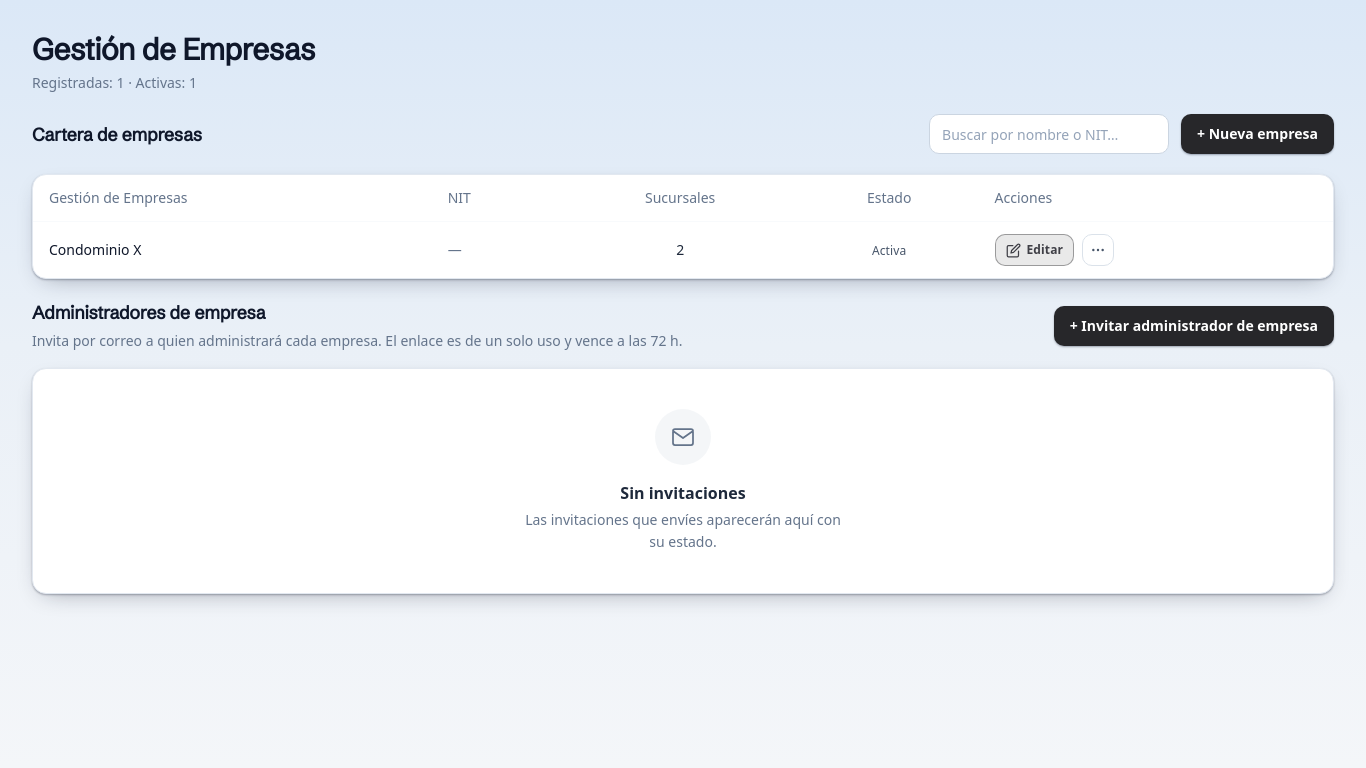
Test: OwnerEmpresas — eliminar definitivamente › contraseña incorrecta: muestra el error del servidor y no cierra el modal
Expected: the text "Condominio X" is shown, [49, 239, 141, 261]
Click the button named "Acciones: Condominio X": {"x": 1098, "y": 250} [1082, 234, 1114, 266]
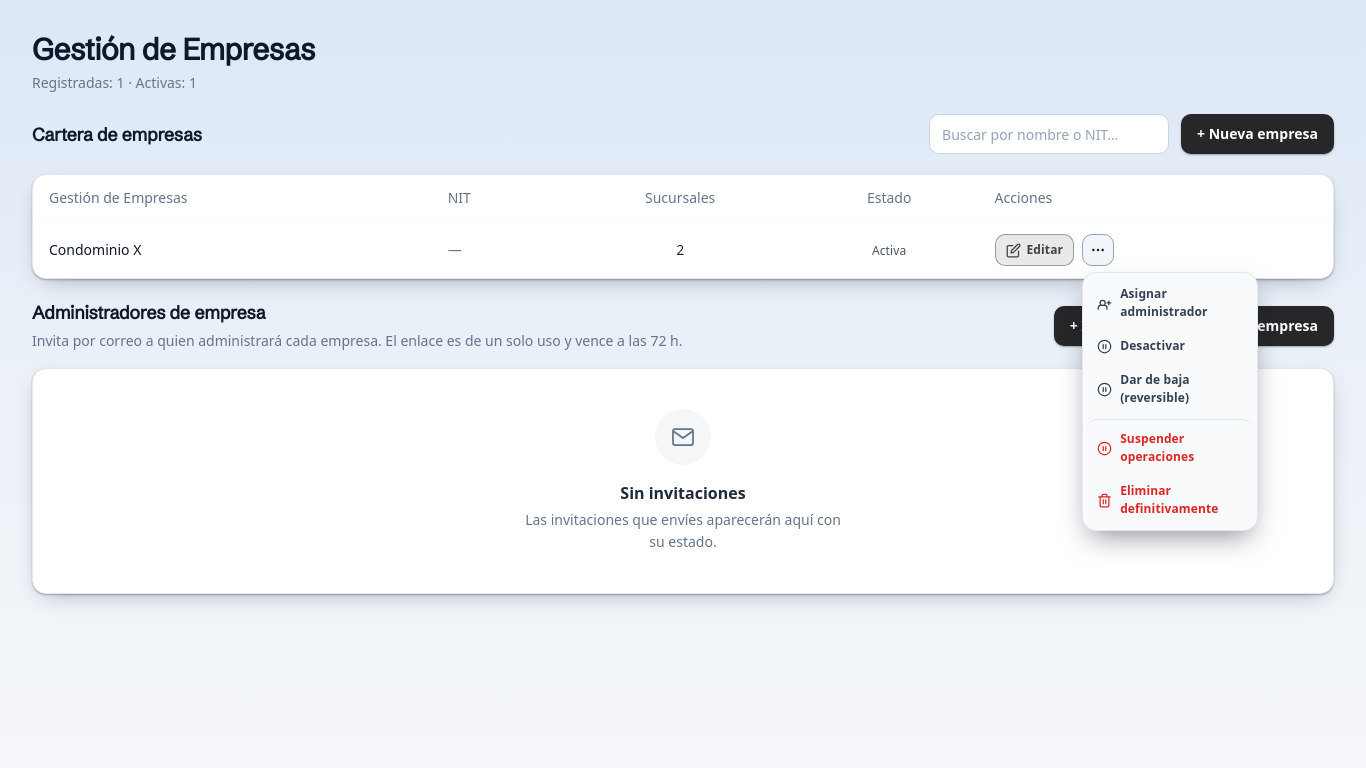
Click the menu item "Eliminar definitivamente": {"x": 1170, "y": 500} [1087, 474, 1253, 526]
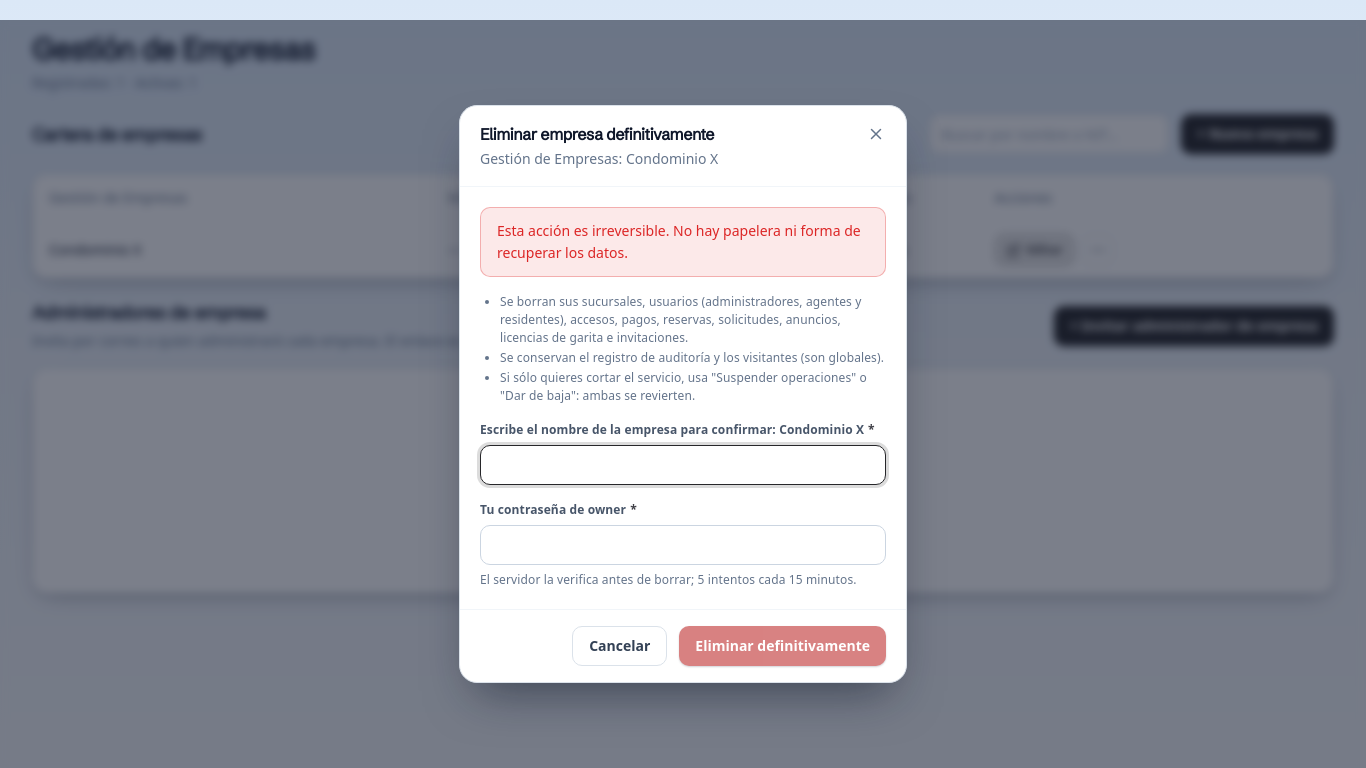
In the field labelled "Escribe el nombre": {"x": 683, "y": 465} [480, 445, 886, 485], type "Condominio X"
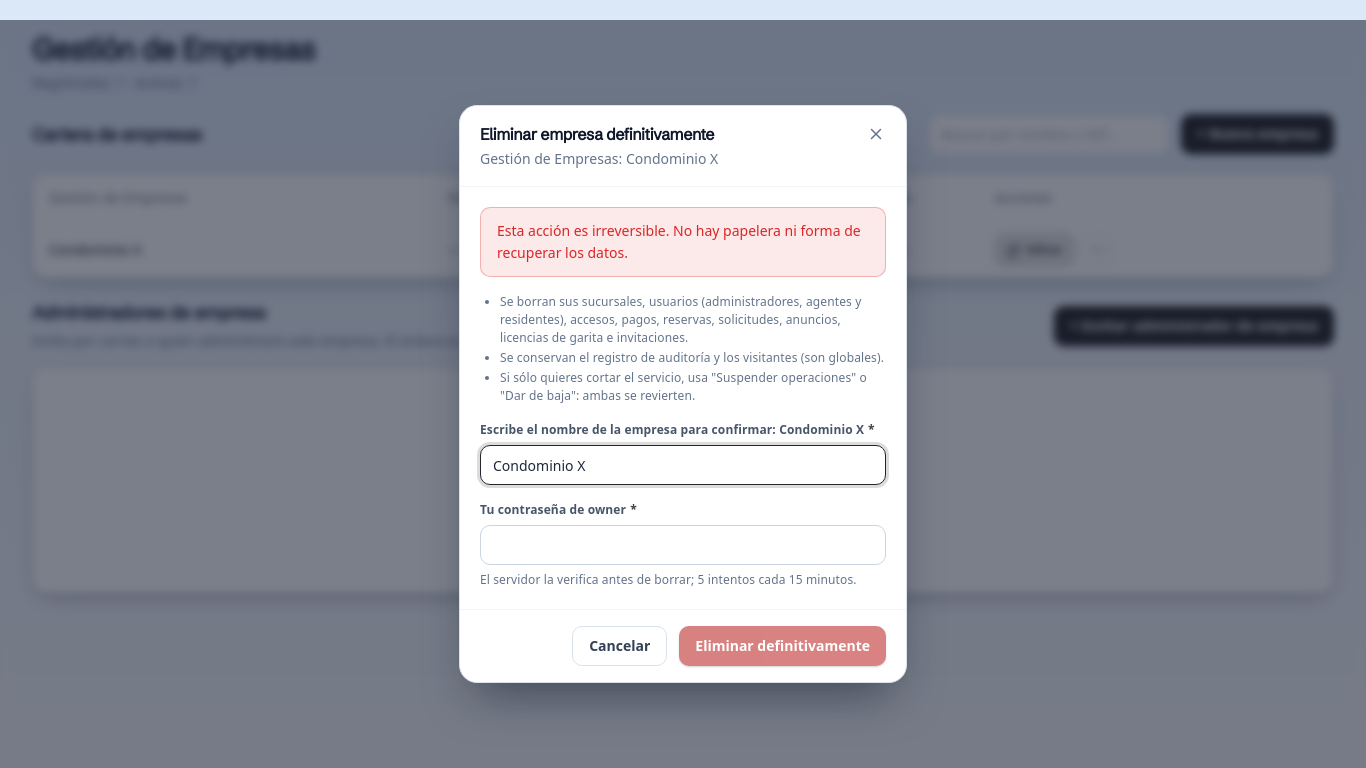
In the password field labelled "Tu contraseña de owner*": {"x": 683, "y": 545} [480, 525, 886, 565], type "mala"
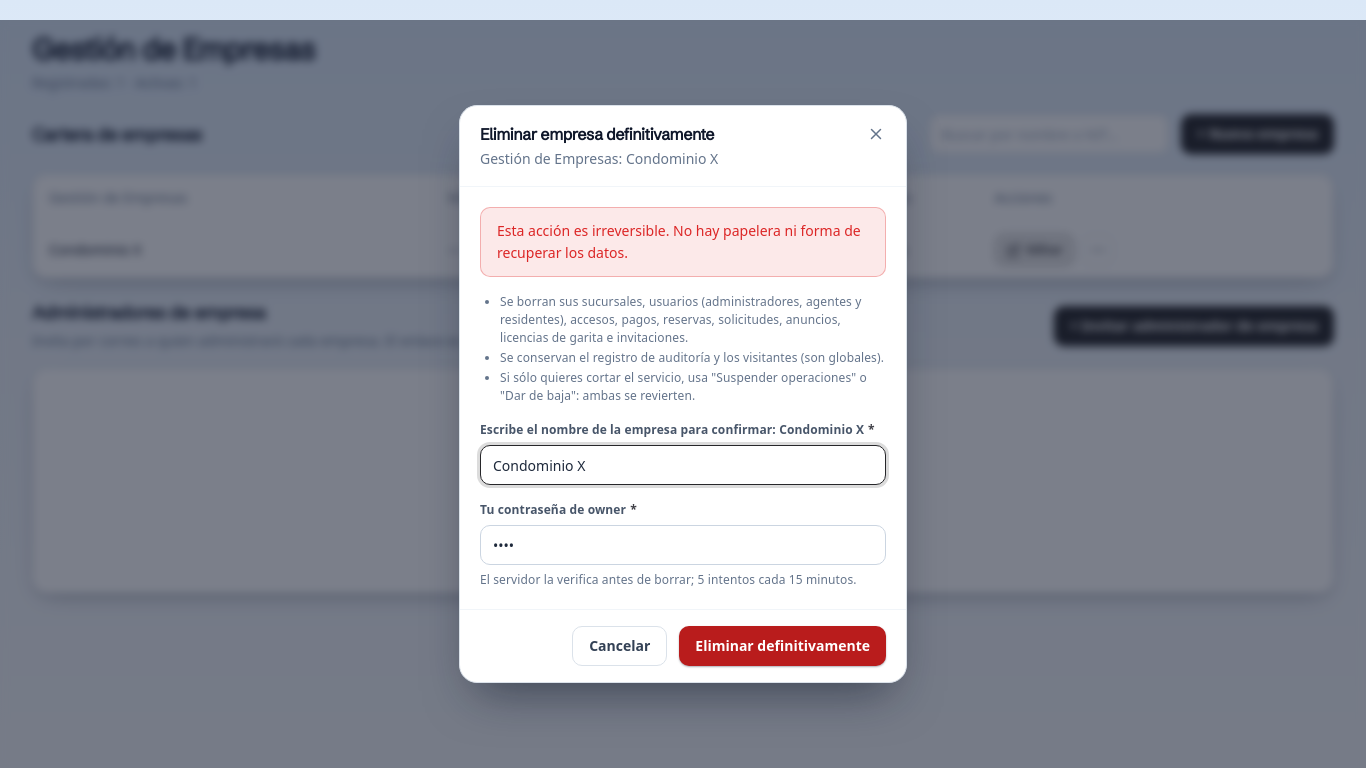
Click the button "Eliminar definitivamente": {"x": 783, "y": 646} [679, 626, 886, 666]
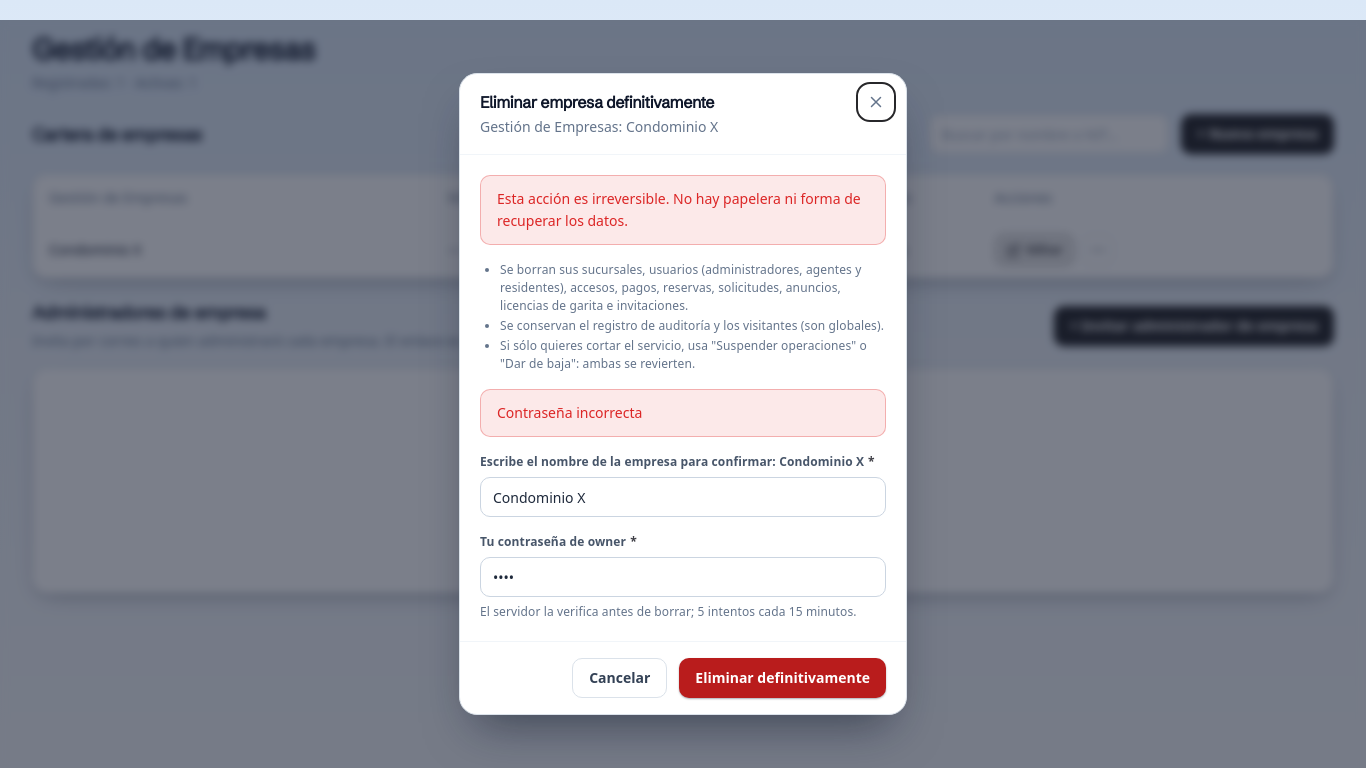
Expected: the dialog "Eliminar empresa definitivamente" is shown, [459, 73, 907, 715]
Expected: the text "Contraseña incorrecta" is shown, [480, 389, 886, 437]
